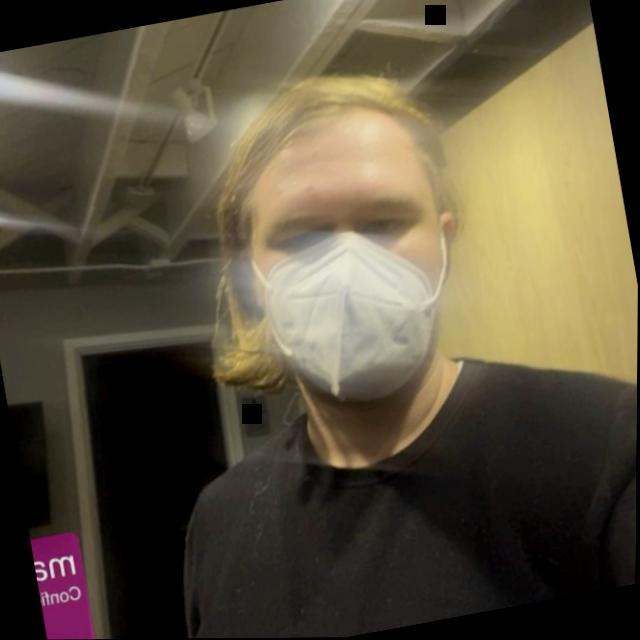Mask: (172, 43, 497, 419)
